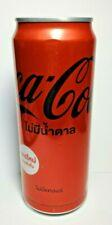metal: (14, 18, 95, 214)
